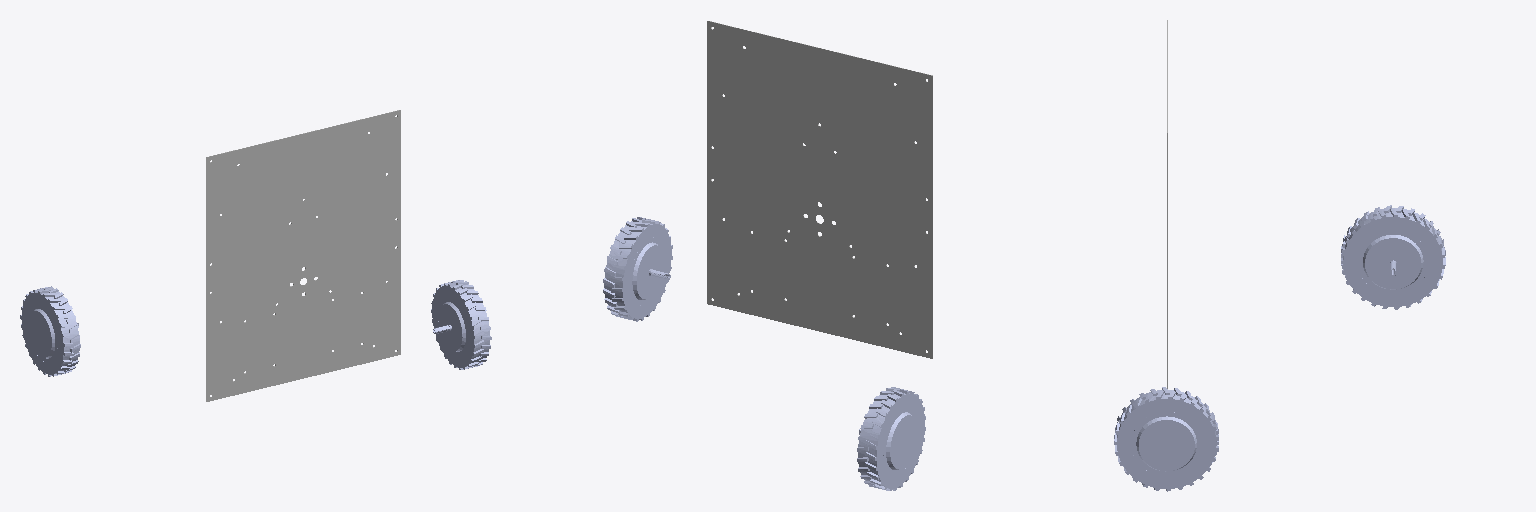
The robot description file, URDF, robot "mesh_test_4":
<?xml version="1.0" encoding="utf-8"?>
<!-- This URDF was automatically created by SolidWorks to URDF Exporter! Originally created by [author] ([email redacted]) 
     Commit Version: 1.6.0-4-g7f85cfe  Build Version: 1.6.7995.38578
     For more information, please see http://wiki.ros.org/sw_urdf_exporter -->
<robot
  name="mesh_test_4">
  <link
    name="base_link">
    <inertial>
      <origin
        xyz="-0.00182709019846635 -0.0427336034393158 0.088629956713458"
        rpy="0 0 0" />
      <mass
        value="17.2838110122628" />
      <inertia
        ixx="0.178039848189275"
        ixy="0.00061850254185517"
        ixz="-0.000122938646474903"
        iyy="0.149710885077838"
        iyz="-0.000523335684874928"
        izz="0.281346224572661" />
    </inertial>
    <visual>
      <origin
        xyz="0 0 0"
        rpy="0 0 0" />
      <geometry>
        <mesh
          filename="package://mesh_test_4/meshes/base_link.STL" />
      </geometry>
      <material
        name="">
        <color
          rgba="0.752941176470588 0.752941176470588 0.752941176470588 1" />
      </material>
    </visual>
    <collision>
      <origin
        xyz="0 0 0"
        rpy="0 0 0" />
      <geometry>
        <mesh
          filename="package://mesh_test_4/meshes/base_link.STL" />
      </geometry>
    </collision>
  </link>
  <link
    name="left_rear_wheel_link">
    <inertial>
      <origin
        xyz="0.000118305531411289 1.74538050679018E-10 -5.39893773576772E-07"
        rpy="0 0 0" />
      <mass
        value="1.38515667925412" />
      <inertia
        ixx="0.00608670649415379"
        ixy="-1.30467261725971E-10"
        ixz="5.0163442764185E-08"
        iyy="0.00331734803830799"
        iyz="5.84204525047522E-11"
        izz="0.00331733096263903" />
    </inertial>
    <visual>
      <origin
        xyz="0 0 0"
        rpy="0 0 0" />
      <geometry>
        <mesh
          filename="package://mesh_test_4/meshes/left_rear_wheel_link.STL" />
      </geometry>
      <material
        name="">
        <color
          rgba="0.792156862745098 0.819607843137255 0.933333333333333 1" />
      </material>
    </visual>
    <collision>
      <origin
        xyz="0 0 0"
        rpy="0 0 0" />
      <geometry>
        <mesh
          filename="package://mesh_test_4/meshes/left_rear_wheel_link.STL" />
      </geometry>
    </collision>
  </link>
  <joint
    name="left_rear_wheel_joint"
    type="continuous">
    <origin
      xyz="-0.410080546831398 0.431799977649541 -0.266700099058444"
      rpy="0 0 0" />
    <parent
      link="base_link" />
    <child
      link="left_rear_wheel_link" />
    <axis
      xyz="-1 0 0" />
  </joint>
  <link
    name="right_rear_wheel_link">
    <inertial>
      <origin
        xyz="-0.000118305531393803 6.41474795504138E-09 -5.476164268714E-07"
        rpy="0 0 0" />
      <mass
        value="1.38515667925022" />
      <inertia
        ixx="0.00608670649414288"
        ixy="-1.51613486824568E-10"
        ixz="-5.0138297667679E-08"
        iyy="0.00331734776436555"
        iyz="-1.68192191306123E-11"
        izz="0.00331733123657076" />
    </inertial>
    <visual>
      <origin
        xyz="0 0 0"
        rpy="0 0 0" />
      <geometry>
        <mesh
          filename="package://mesh_test_4/meshes/right_rear_wheel_link.STL" />
      </geometry>
      <material
        name="">
        <color
          rgba="0.792156862745098 0.819607843137255 0.933333333333333 1" />
      </material>
    </visual>
    <collision>
      <origin
        xyz="0 0 0"
        rpy="0 0 0" />
      <geometry>
        <mesh
          filename="package://mesh_test_4/meshes/right_rear_wheel_link.STL" />
      </geometry>
    </collision>
  </link>
  <joint
    name="right_rear_wheel_joint"
    type="continuous">
    <origin
      xyz="0.410144046831398 0.431799989920548 -0.2667000000083"
      rpy="0 0 0" />
    <parent
      link="base_link" />
    <child
      link="right_rear_wheel_link" />
    <axis
      xyz="1 0 0" />
  </joint>
  <link
    name="left_middle_wheel_link">
    <inertial>
      <origin
        xyz="0.000118305531391638 -4.10783555967398E-07 -3.64957963128187E-07"
        rpy="0 0 0" />
      <mass
        value="1.38515667924975" />
      <inertia
        ixx="0.00608670649414168"
        ixy="3.79376286142193E-08"
        ixz="3.27726783483534E-08"
        iyy="0.00331733834943749"
        iyz="-8.20130896088933E-09"
        izz="0.00331734065149748" />
    </inertial>
    <visual>
      <origin
        xyz="0 0 0"
        rpy="0 0 0" />
      <geometry>
        <mesh
          filename="package://mesh_test_4/meshes/left_middle_wheel_link.STL" />
      </geometry>
      <material
        name="">
        <color
          rgba="0.792156862745098 0.819607843137255 0.933333333333333 1" />
      </material>
    </visual>
    <collision>
      <origin
        xyz="0 0 0"
        rpy="0 0 0" />
      <geometry>
        <mesh
          filename="package://mesh_test_4/meshes/left_middle_wheel_link.STL" />
      </geometry>
    </collision>
  </link>
  <joint
    name="left_middle_wheel_joint"
    type="continuous">
    <origin
      xyz="-0.410080546831398 0 -0.266700079325523"
      rpy="0 0 0" />
    <parent
      link="base_link" />
    <child
      link="left_middle_wheel_link" />
    <axis
      xyz="-1 0 0" />
  </joint>
  <link
    name="right_middle_wheel_link">
    <inertial>
      <origin
        xyz="-0.000118305531422003 -4.11470921536689E-07 -3.4978824414722E-07"
        rpy="0 0 0" />
      <mass
        value="1.38515667925641" />
      <inertia
        ixx="0.00608670649415985"
        ixy="-3.81060675117139E-08"
        ixz="-3.26231551854103E-08"
        iyy="0.00331733827450242"
        iyz="-8.43766950773912E-09"
        izz="0.00331734072645102" />
    </inertial>
    <visual>
      <origin
        xyz="0 0 0"
        rpy="0 0 0" />
      <geometry>
        <mesh
          filename="package://mesh_test_4/meshes/right_middle_wheel_link.STL" />
      </geometry>
      <material
        name="">
        <color
          rgba="0.792156862745098 0.819607843137255 0.933333333333333 1" />
      </material>
    </visual>
    <collision>
      <origin
        xyz="0 0 0"
        rpy="0 0 0" />
      <geometry>
        <mesh
          filename="package://mesh_test_4/meshes/right_middle_wheel_link.STL" />
      </geometry>
    </collision>
  </link>
  <joint
    name="right_middle_wheel_joint"
    type="continuous">
    <origin
      xyz="0.410144046831398 0 -0.266700008487084"
      rpy="0 0 0" />
    <parent
      link="base_link" />
    <child
      link="right_middle_wheel_link" />
    <axis
      xyz="1 0 0" />
  </joint>
  <link
    name="left_front_wheel_link">
    <inertial>
      <origin
        xyz="0.000155212043926711 9.00264929271088E-09 -5.47509620918429E-07"
        rpy="0 0 0" />
      <mass
        value="1.38515667925253" />
      <inertia
        ixx="0.00608670649414915"
        ixy="-1.51546150586505E-10"
        ixz="5.01389386245194E-08"
        iyy="0.00331734776435004"
        iyz="1.79208089434867E-11"
        izz="0.00331733123659271" />
    </inertial>
    <visual>
      <origin
        xyz="0 0 0"
        rpy="0 0 0" />
      <geometry>
        <mesh
          filename="package://mesh_test_4/meshes/left_front_wheel_link.STL" />
      </geometry>
      <material
        name="">
        <color
          rgba="0.792156862745098 0.819607843137255 0.933333333333333 1" />
      </material>
    </visual>
    <collision>
      <origin
        xyz="0 0 0"
        rpy="0 0 0" />
      <geometry>
        <mesh
          filename="package://mesh_test_4/meshes/left_front_wheel_link.STL" />
      </geometry>
    </collision>
  </link>
  <joint
    name="left_front_wheel_joint"
    type="continuous">
    <origin
      xyz="-0.3720174531686 -0.435037745405696 -0.267580612678357"
      rpy="0 0 0" />
    <parent
      link="base_link" />
    <child
      link="left_front_wheel_link" />
    <axis
      xyz="1 0 0" />
  </joint>
  <link
    name="right_front_wheel_link">
    <inertial>
      <origin
        xyz="-0.000118305531393803 6.41418224089918E-09 -5.47616426260777E-07"
        rpy="0 0 0" />
      <mass
        value="1.38515667925022" />
      <inertia
        ixx="0.0060867064941429"
        ixy="-1.51665263592293E-10"
        ixz="-5.01382975359592E-08"
        iyy="0.00331734776436552"
        iyz="-1.6836566587484E-11"
        izz="0.00331733123657081" />
    </inertial>
    <visual>
      <origin
        xyz="0 0 0"
        rpy="0 0 0" />
      <geometry>
        <mesh
          filename="package://mesh_test_4/meshes/right_front_wheel_link.STL" />
      </geometry>
      <material
        name="">
        <color
          rgba="0.792156862745098 0.819607843137255 0.933333333333333 1" />
      </material>
    </visual>
    <collision>
      <origin
        xyz="0 0 0"
        rpy="0 0 0" />
      <geometry>
        <mesh
          filename="package://mesh_test_4/meshes/right_front_wheel_link.STL" />
      </geometry>
    </collision>
  </link>
  <joint
    name="right_front_wheel_joint"
    type="continuous">
    <origin
      xyz="0.372044046831398 -0.435037644633047 -0.267580791212004"
      rpy="0 0 0" />
    <parent
      link="base_link" />
    <child
      link="right_front_wheel_link" />
    <axis
      xyz="1 0 0" />
  </joint>
</robot>

--- Render facts (derived) ---
Views: 3 orthographic renders of the robot side by side, from view 1: azimuth 30°, elevation 25°; view 2: azimuth 150°, elevation 25°; view 3: azimuth 270°, elevation 25°.
Robot: mesh_test_4 — 7 links, 6 joints (6 continuous); root link base_link; default pose: every joint at zero.
Visible links, largest first — view 1: base_link, right_middle_wheel_link, left_rear_wheel_link; view 2: base_link, right_middle_wheel_link, left_rear_wheel_link; view 3: left_rear_wheel_link, right_middle_wheel_link.
Link boxes in pixels (bbox=[...]): base_link: bbox=[206, 110, 400, 401]; right_middle_wheel_link: bbox=[431, 280, 491, 369]; left_rear_wheel_link: bbox=[20, 286, 80, 376]; base_link: bbox=[707, 21, 932, 358]; right_middle_wheel_link: bbox=[603, 217, 672, 321]; left_rear_wheel_link: bbox=[857, 387, 925, 490]; left_rear_wheel_link: bbox=[1341, 205, 1445, 309]; right_middle_wheel_link: bbox=[1114, 387, 1218, 491].
Size in the robot's own frame: 0.8763 by 0.6318 by 0.6715 metres.
3 mesh visuals loaded from 7 distinct referenced files (3 binary STL); not drawn: 4 (reference not matched to a file when rendering).